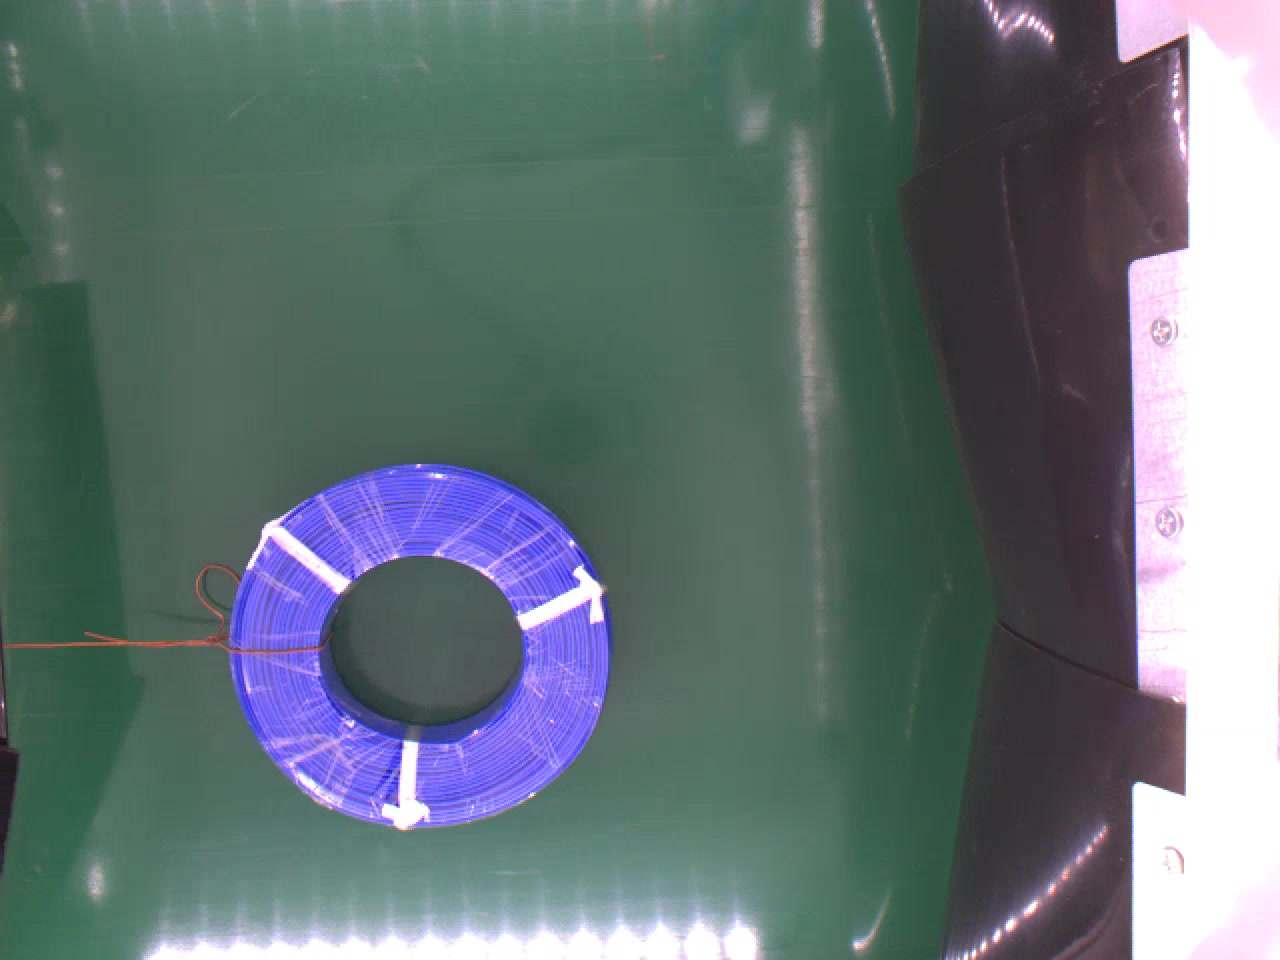blue: (224, 462, 616, 834)
